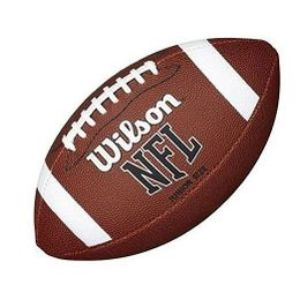futbol americano: (35, 38, 280, 261)
